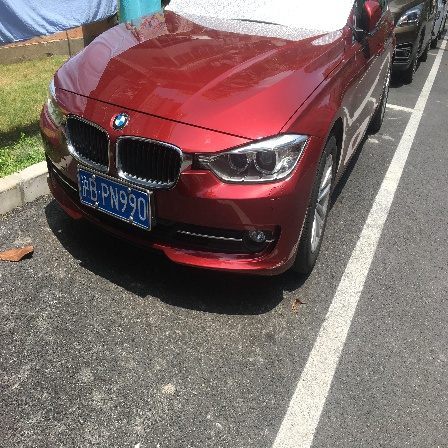plate: (72, 162, 153, 236)
